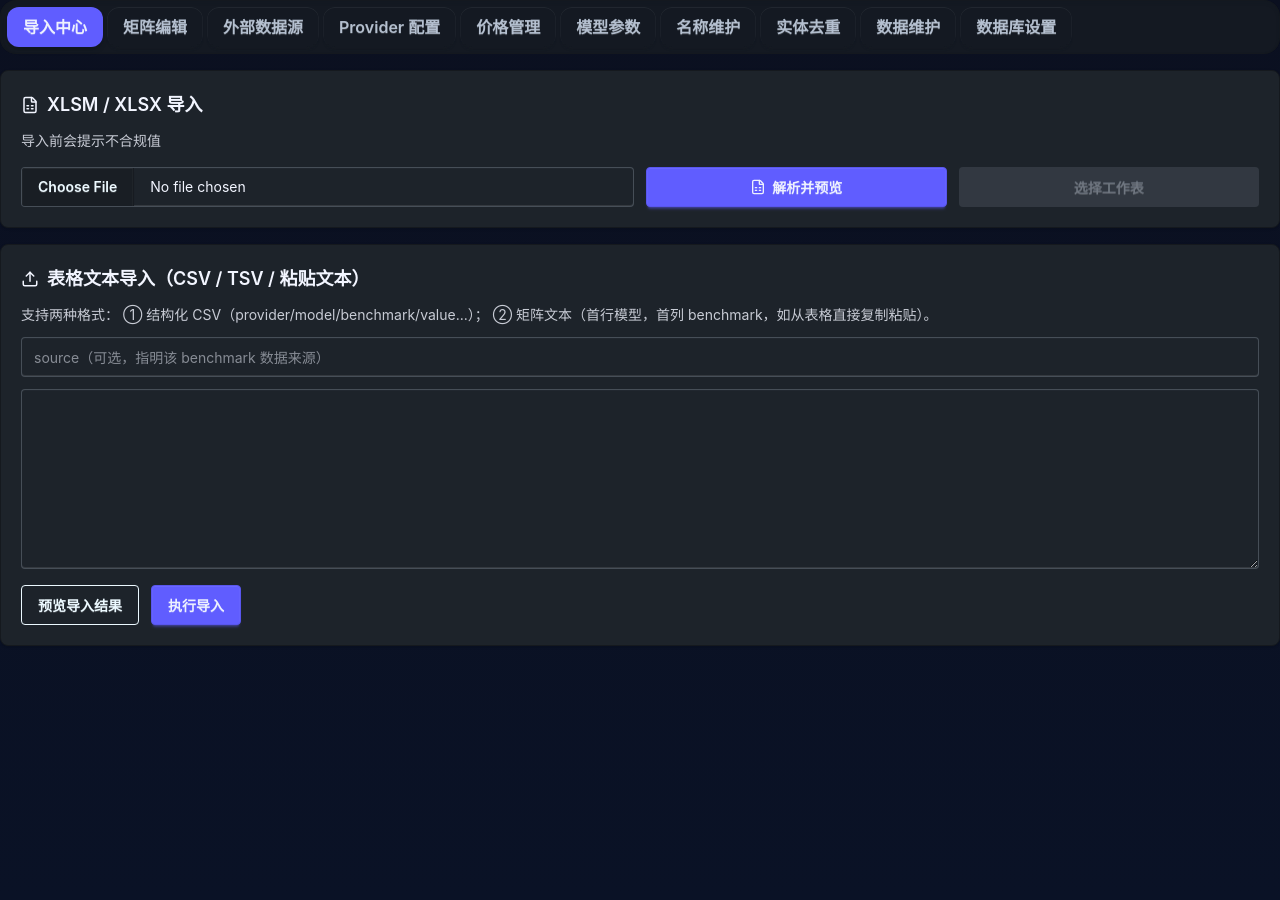
Test case: AdminConsole records tab › 清空选区会把已有格标成待删除
The width and height of the screenshot is (1280, 900).
Step 1. Click the tab "矩阵编辑" → (155, 27), box [107, 7, 203, 47]
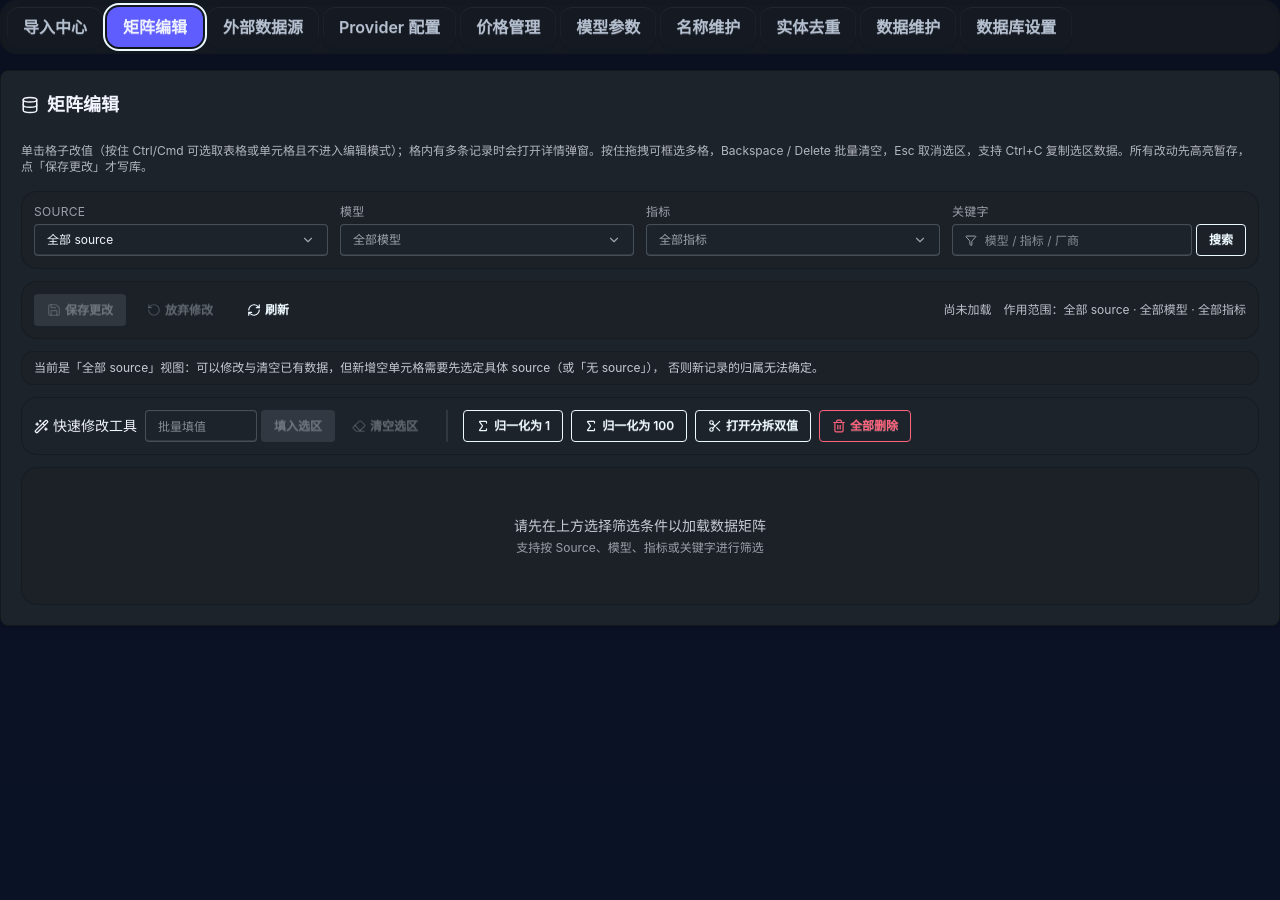
Step 2. Click the button with aria-label "Source 筛选" → (80, 240), box [34, 224, 328, 256]
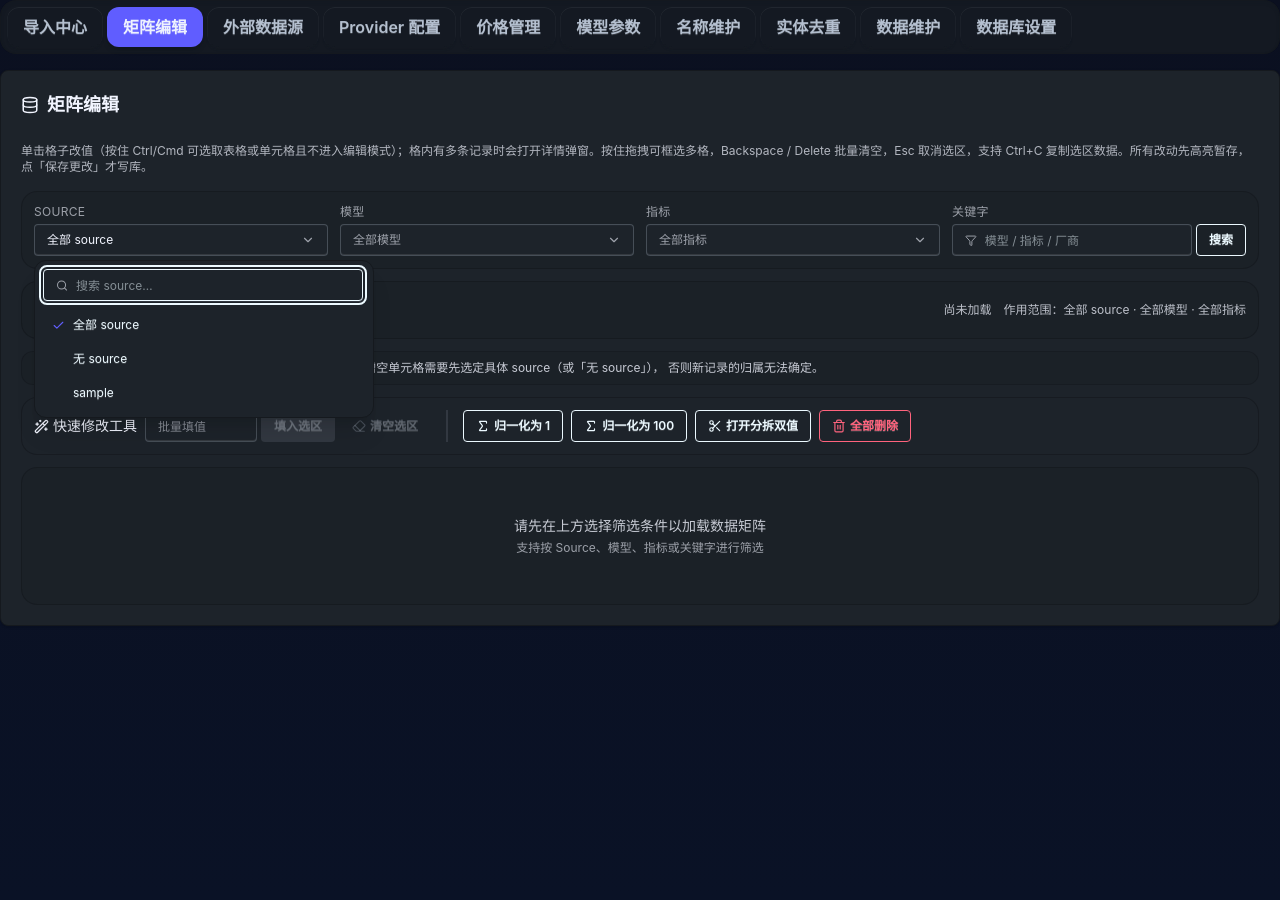
Step 3. Click the 2nd button "全部 source" → (106, 324), box [43, 309, 365, 341]
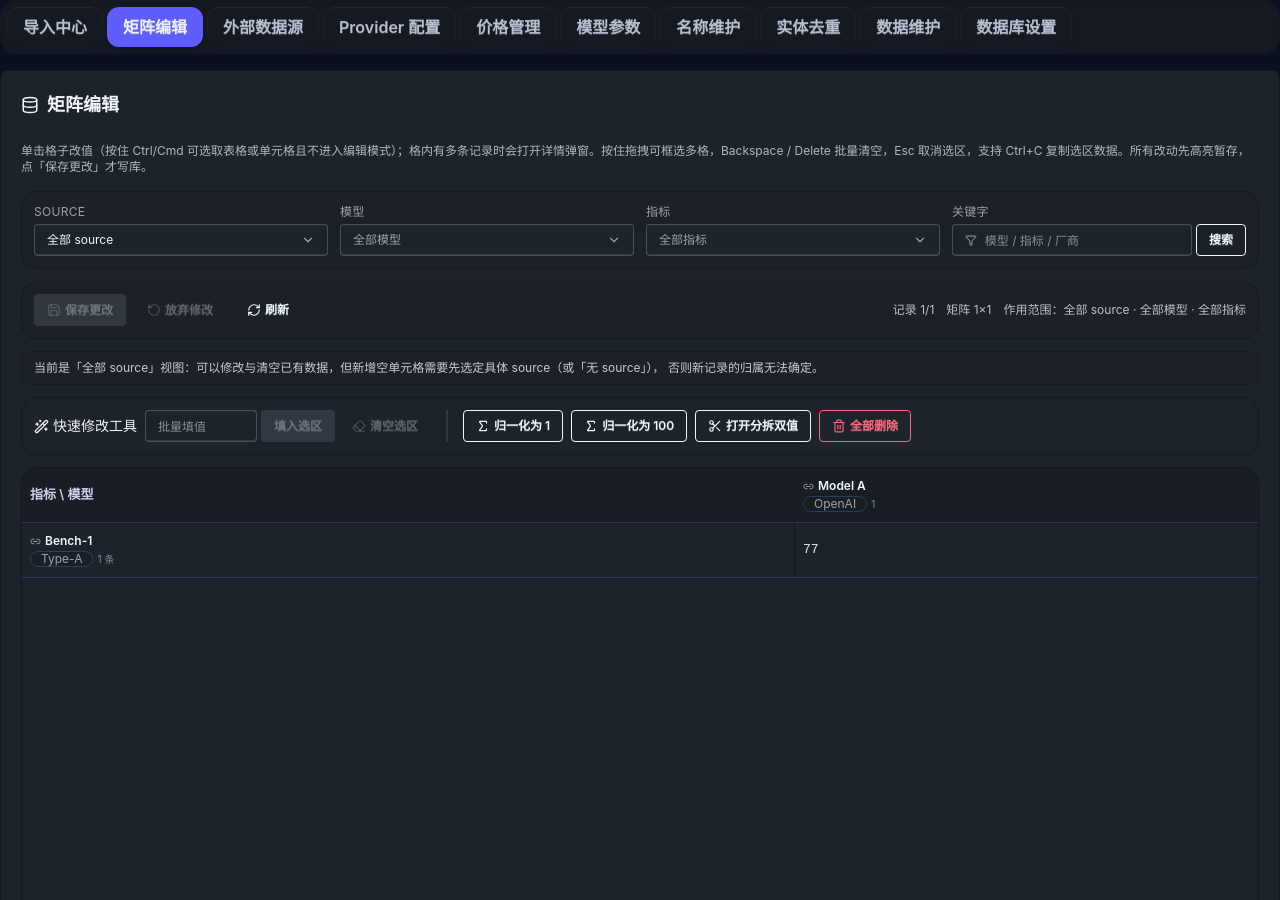
Step 4. Press the mouse on the cell with test id "record-cell-1-11" → (1026, 550), box [794, 522, 1258, 578]
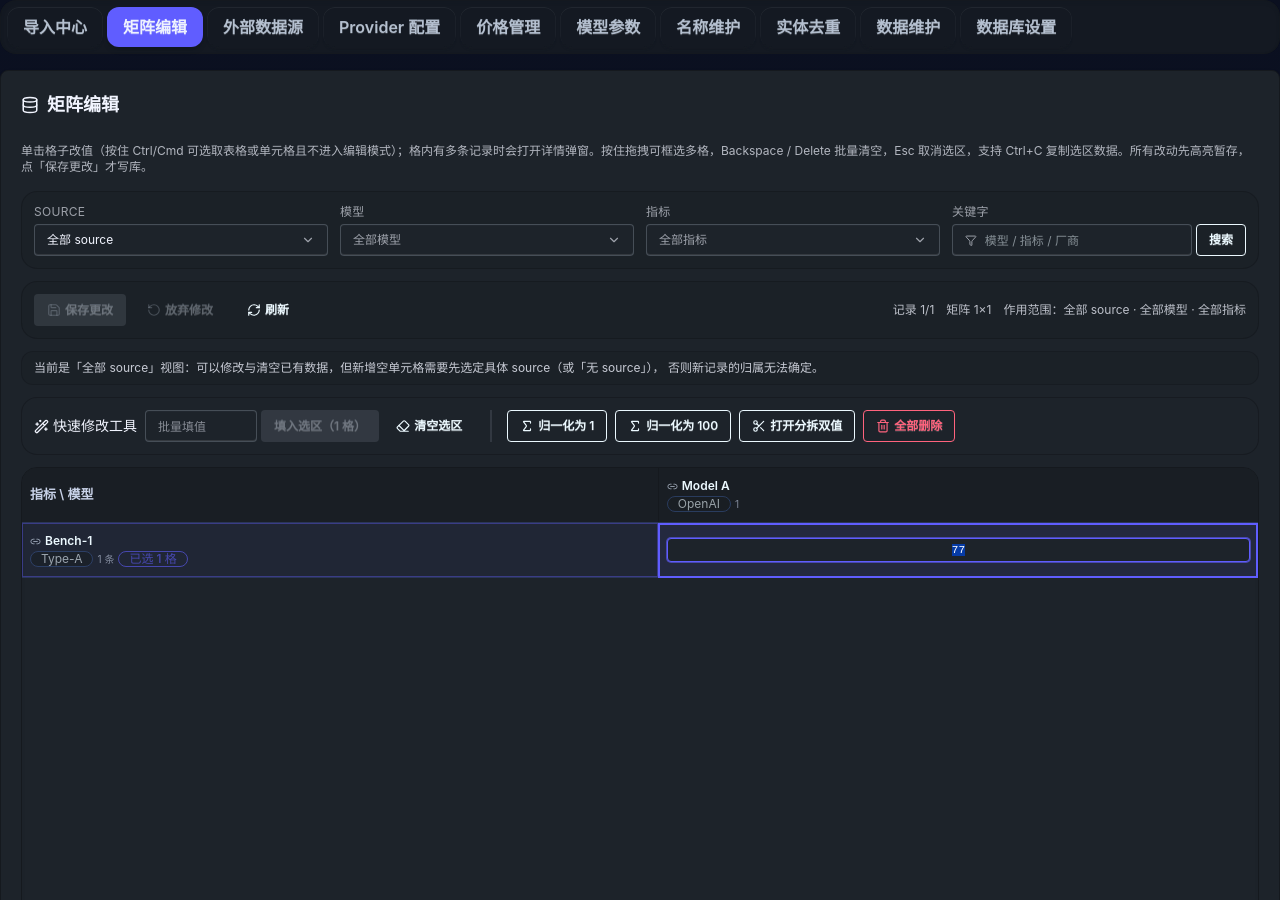
Now the cell with test id "record-cell-1-11" has attribute data-selected="true", box [658, 522, 1258, 578]
Step 5. Click the button "清空选区" → (429, 426), box [383, 410, 475, 442]
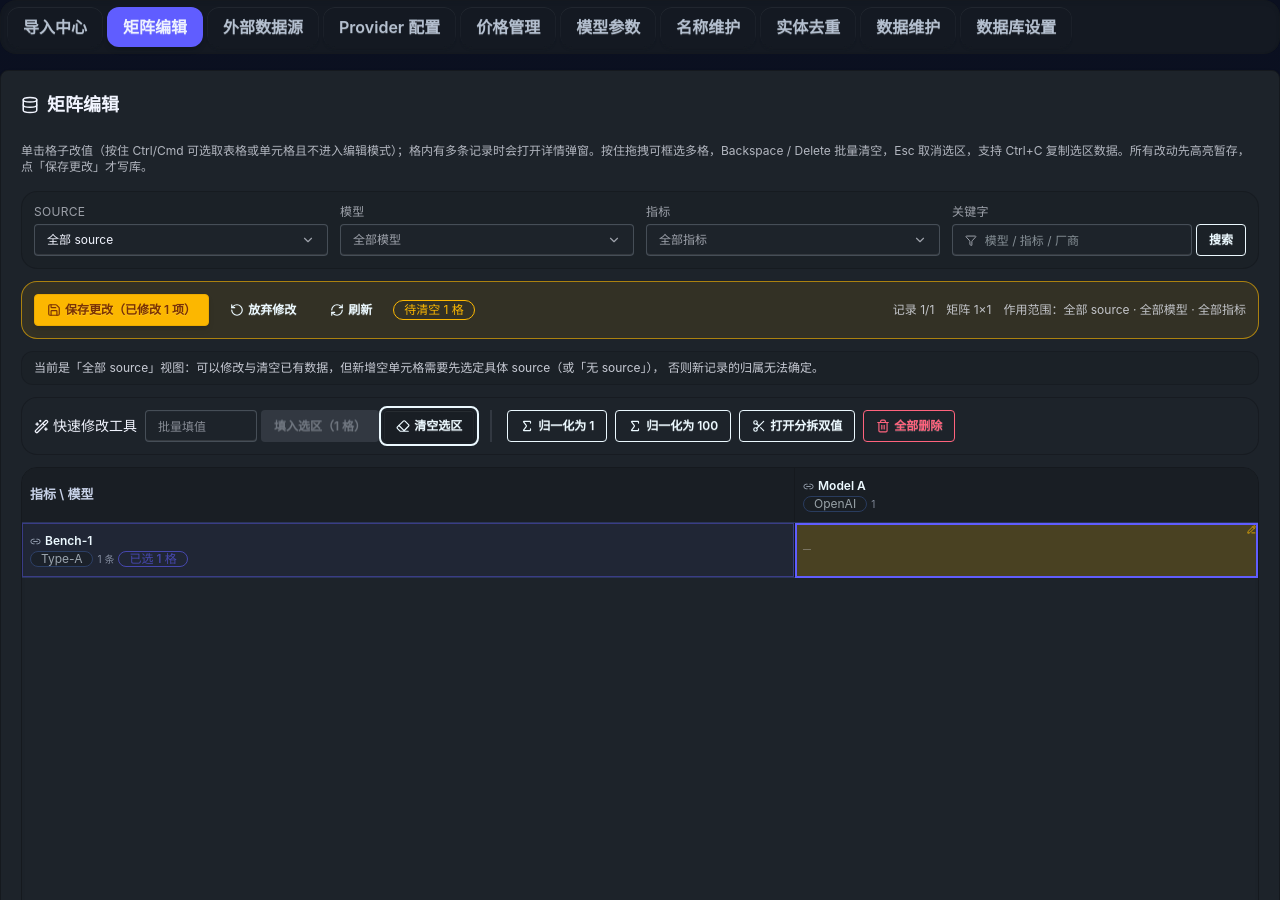
Now the text "待清空 1 格" is shown, box [393, 300, 475, 320]
Now the button "保存更改（已修改 1 项）" is enabled, box [34, 294, 209, 326]
